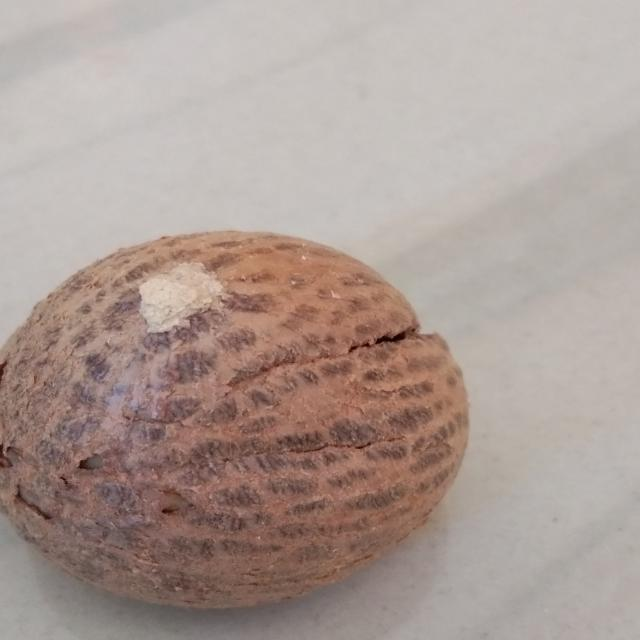phatora: (0, 213, 493, 622)
